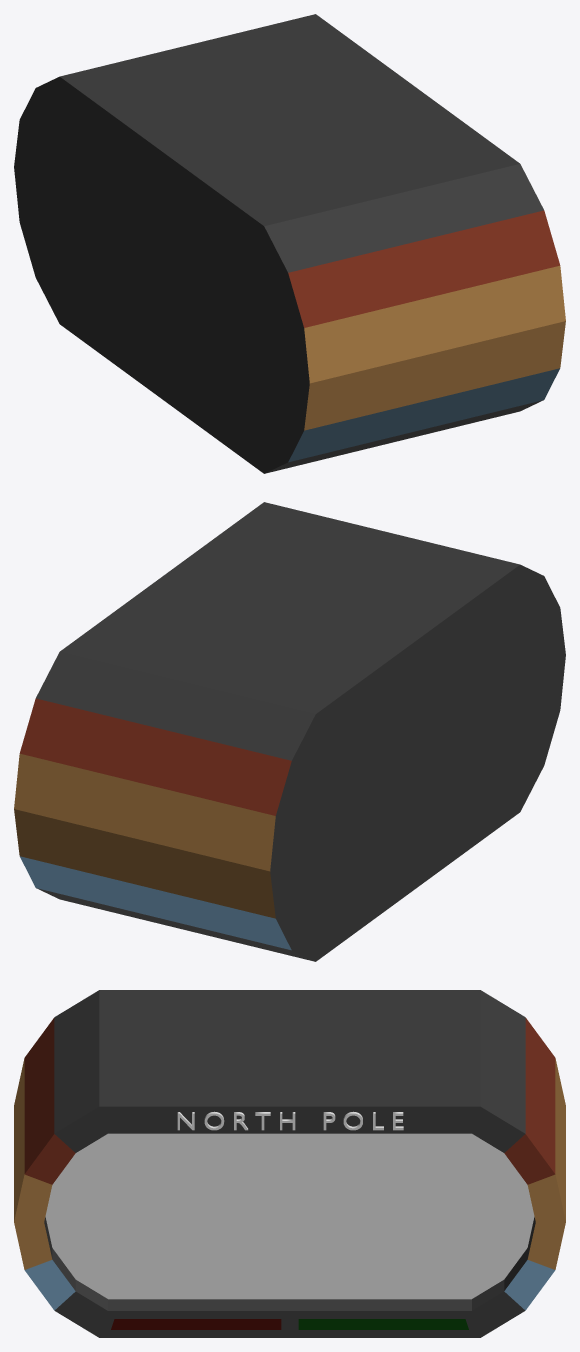
Rendered from north_pole_display.glb.
The picture shows the model from 3 angles, top to bottom: view 1: azimuth 30°, elevation 25°; view 2: azimuth 150°, elevation 25°; view 3: azimuth 270°, elevation 25°; orthographic projection. The views are drawn at different scales.
Visible parts, largest first — view 1: Cylinder; view 2: Cylinder; view 3: Cylinder, Text.
Boxes of the visible parts, left/top/right/bottom form: Cylinder: left=14, top=14, right=565, bottom=473; Cylinder: left=14, top=502, right=565, bottom=961; Cylinder: left=14, top=990, right=565, bottom=1337; Text: left=177, top=1111, right=403, bottom=1130.
Bounding box in the file's own units: 2.03 × 1.85 × 4.
